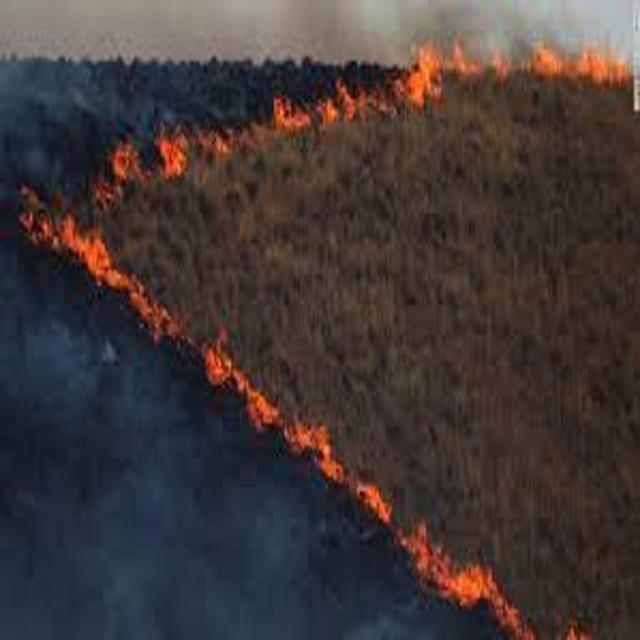Fire: (95, 36, 636, 214), (317, 430, 534, 640), (159, 298, 333, 462), (7, 188, 156, 338)
Smoke: (10, 342, 288, 640)
